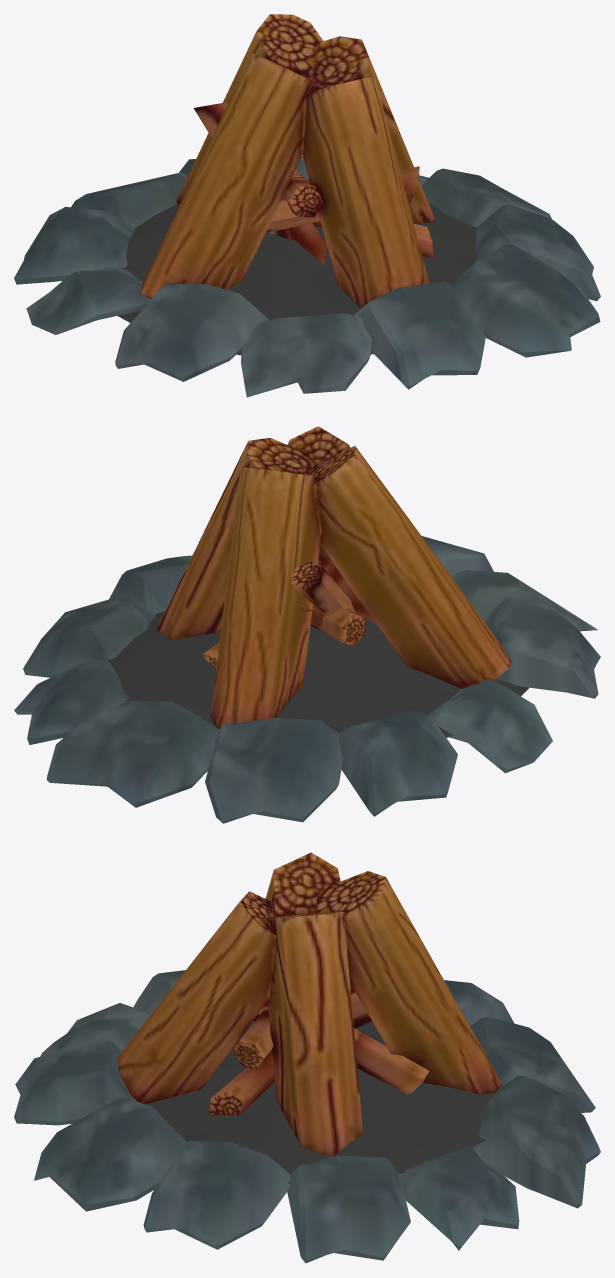
Rendered from PRP_Campfire_lod.glb.
3 views of the same model, one above another, from view 1: azimuth 30°, elevation 25°; view 2: azimuth 150°, elevation 25°; view 3: azimuth 270°, elevation 25° (orthographic).
Parts seen in each view (by area): view 1: Object_4; view 2: Object_4; view 3: Object_4.
Part boxes in pixels (left/top/right/bottom): Object_4: left=14, top=14, right=600, bottom=397; Object_4: left=14, top=426, right=600, bottom=823; Object_4: left=14, top=852, right=600, bottom=1263.
Size of the model in its own units: 6.42 by 3.29 by 6.42.
1 material, 1 textured.
